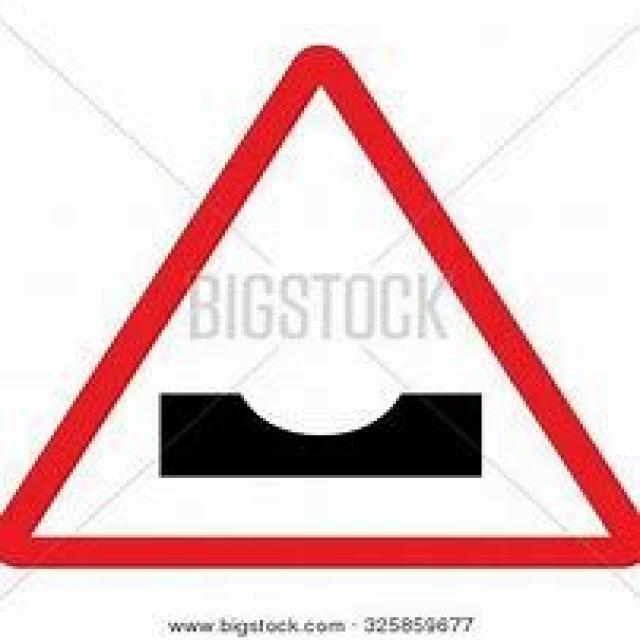dangerous dip: (16, 42, 624, 575)
